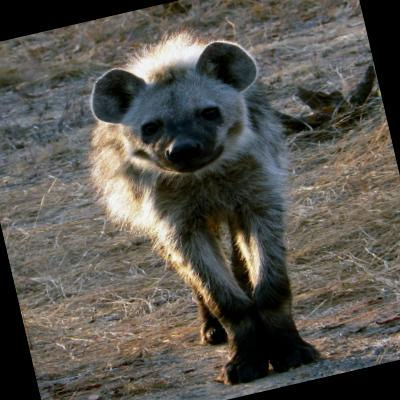hyenas: (52, 0, 361, 400)
